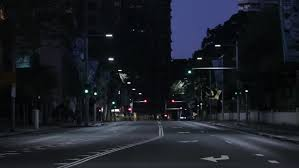strada: (58, 122, 257, 168)
